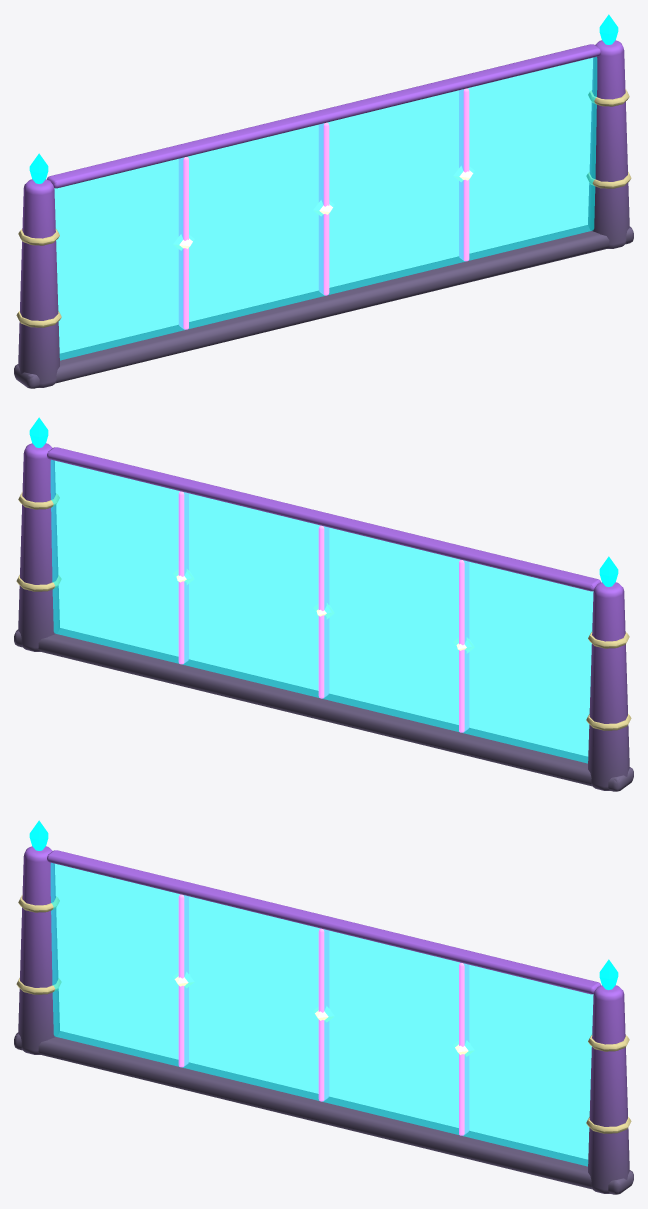
Rendered from wall5.glb.
The picture shows the model from 3 angles, top to bottom: view 1: azimuth 30°, elevation 25°; view 2: azimuth 150°, elevation 25°; view 3: azimuth 330°, elevation 25°; orthographic projection.
Visible parts, largest first — view 1: Glow_00E5FF_T45, Body, Glow_7B2FF7, Glow_00E5FF, Glow_FFE066; view 2: Glow_00E5FF_T45, Body, Glow_7B2FF7, Glow_00E5FF, Glow_FFE066; view 3: Glow_00E5FF_T45, Body, Glow_7B2FF7, Glow_00E5FF, Glow_FFE066.
Boxes of the visible parts, bbox=[...] form: Glow_00E5FF_T45: bbox=[54, 57, 597, 360]; Body: bbox=[14, 40, 633, 388]; Glow_7B2FF7: bbox=[178, 88, 469, 329]; Glow_00E5FF: bbox=[29, 14, 618, 183]; Glow_FFE066: bbox=[173, 166, 474, 250]; Glow_00E5FF_T45: bbox=[50, 460, 593, 763]; Body: bbox=[14, 443, 633, 791]; Glow_7B2FF7: bbox=[178, 491, 469, 732]; Glow_00E5FF: bbox=[29, 417, 618, 586]; Glow_FFE066: bbox=[173, 569, 474, 653]; Glow_00E5FF_T45: bbox=[50, 863, 593, 1166]; Body: bbox=[14, 846, 633, 1194]; Glow_7B2FF7: bbox=[178, 894, 469, 1135]; Glow_00E5FF: bbox=[29, 820, 618, 989]; Glow_FFE066: bbox=[173, 972, 474, 1056].
Bounding box in the file's own units: 39.14 × 14 × 2.42.
